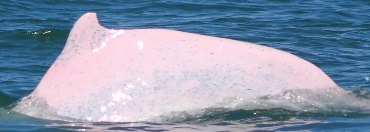fin: (10, 9, 370, 131)
